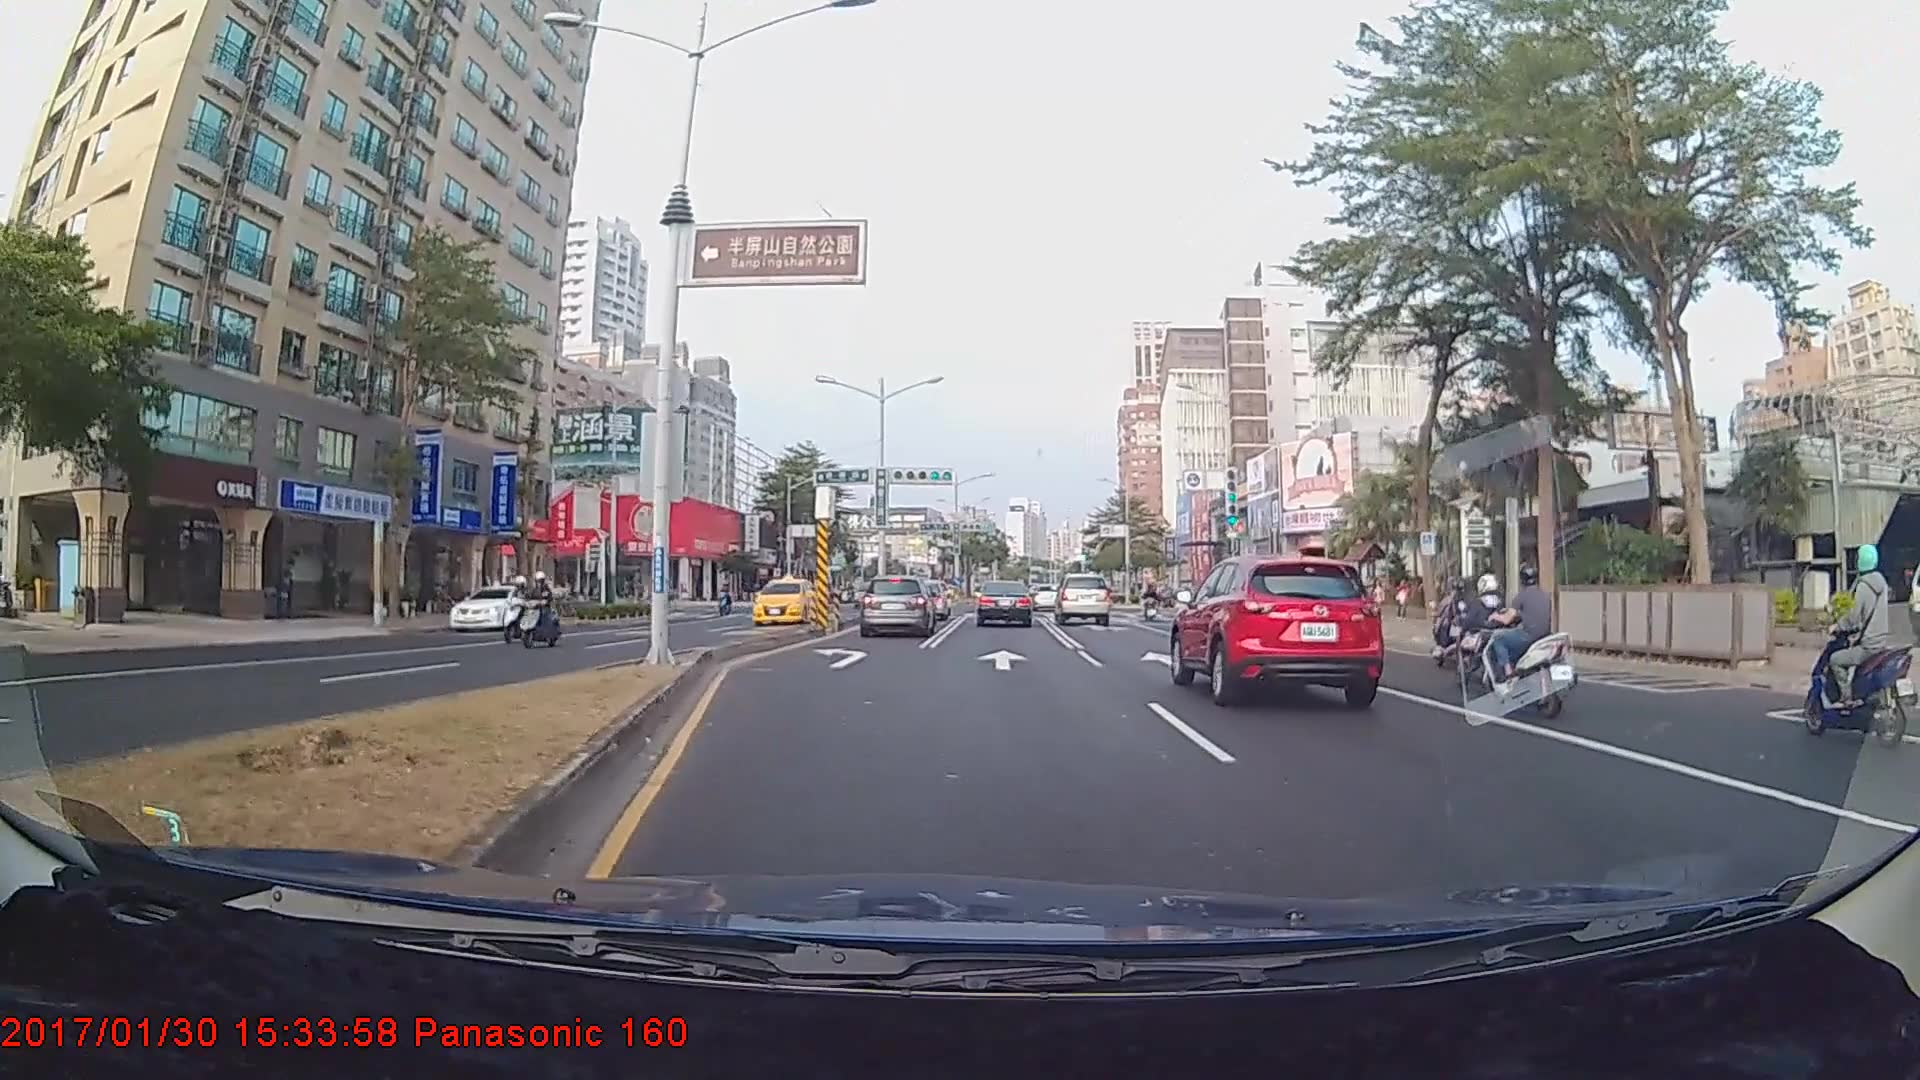rider: (1808, 537, 1916, 758), (1483, 563, 1591, 721), (1427, 572, 1481, 674), (516, 573, 558, 652), (497, 575, 539, 646)
vehicle: (1170, 549, 1385, 704), (449, 582, 546, 631), (857, 575, 934, 638), (747, 579, 818, 627), (1053, 572, 1112, 626), (976, 579, 1033, 628)
